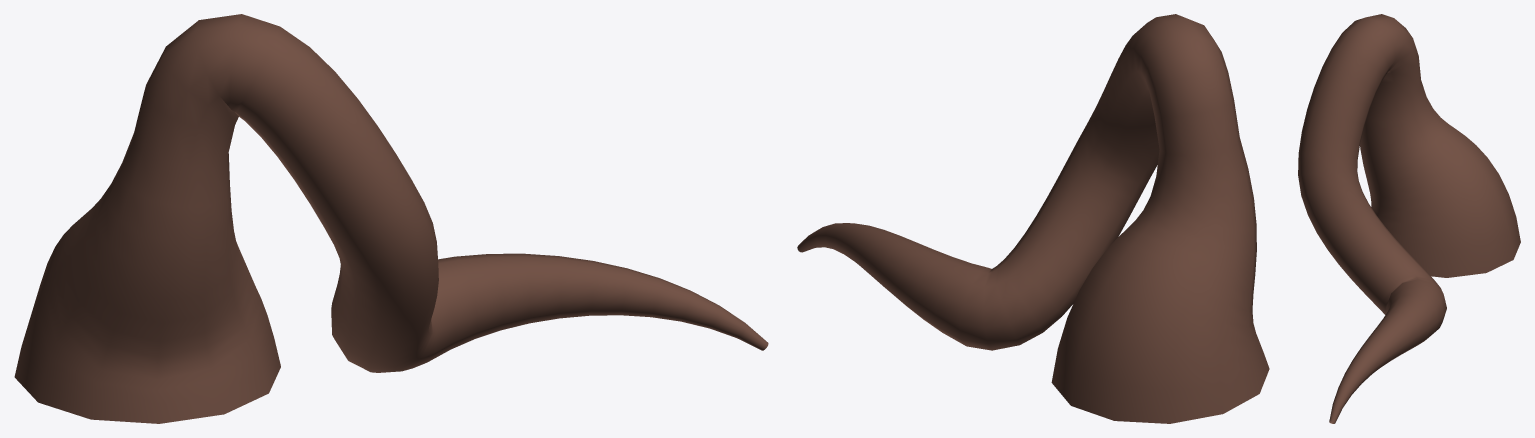
The model's file is Eden_Environment_001_TreeTrunks_004_Rig.fbx.
The picture shows the model from 3 angles, left to right: view 1: azimuth 30°, elevation 25°; view 2: azimuth 150°, elevation 25°; view 3: azimuth 270°, elevation 25°; orthographic projection. The views are drawn at different scales.
Parts seen in each view (by area): view 1: BezierCurve.Trunk.008; view 2: BezierCurve.Trunk.008; view 3: BezierCurve.Trunk.008.
Part boxes in pixels (bbox=[...]): BezierCurve.Trunk.008: bbox=[14, 14, 768, 423]; BezierCurve.Trunk.008: bbox=[797, 14, 1269, 423]; BezierCurve.Trunk.008: bbox=[1298, 14, 1520, 423].
Size of the model in its own units: 1062 by 670 by 522.
